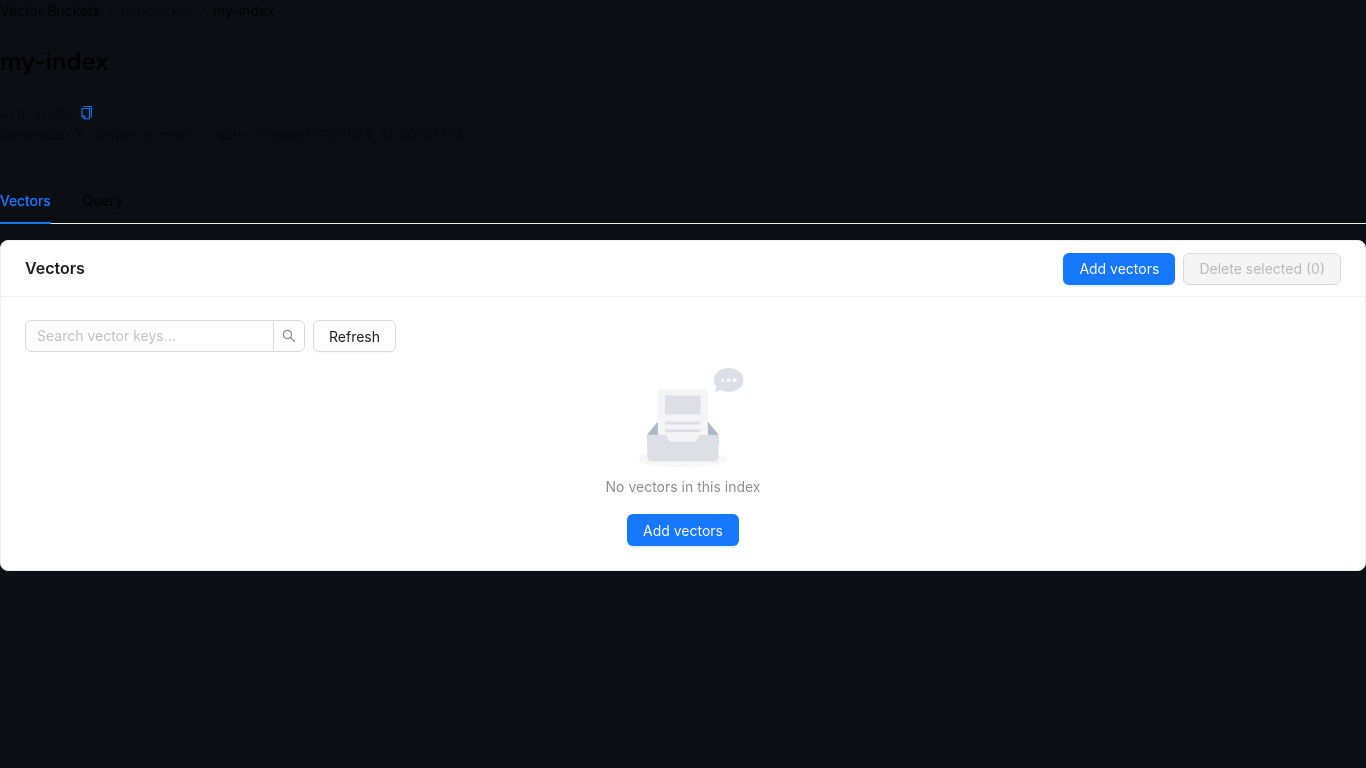
it: IndexDetail page › rejects invalid JSON in the Add vectors modal
Expected: the text "No vectors in this index" is shown, 606,478 -> 760,495
Step 1. Click the 1st button "Add vectors" → (1119, 268), box 1063,252 -> 1175,284
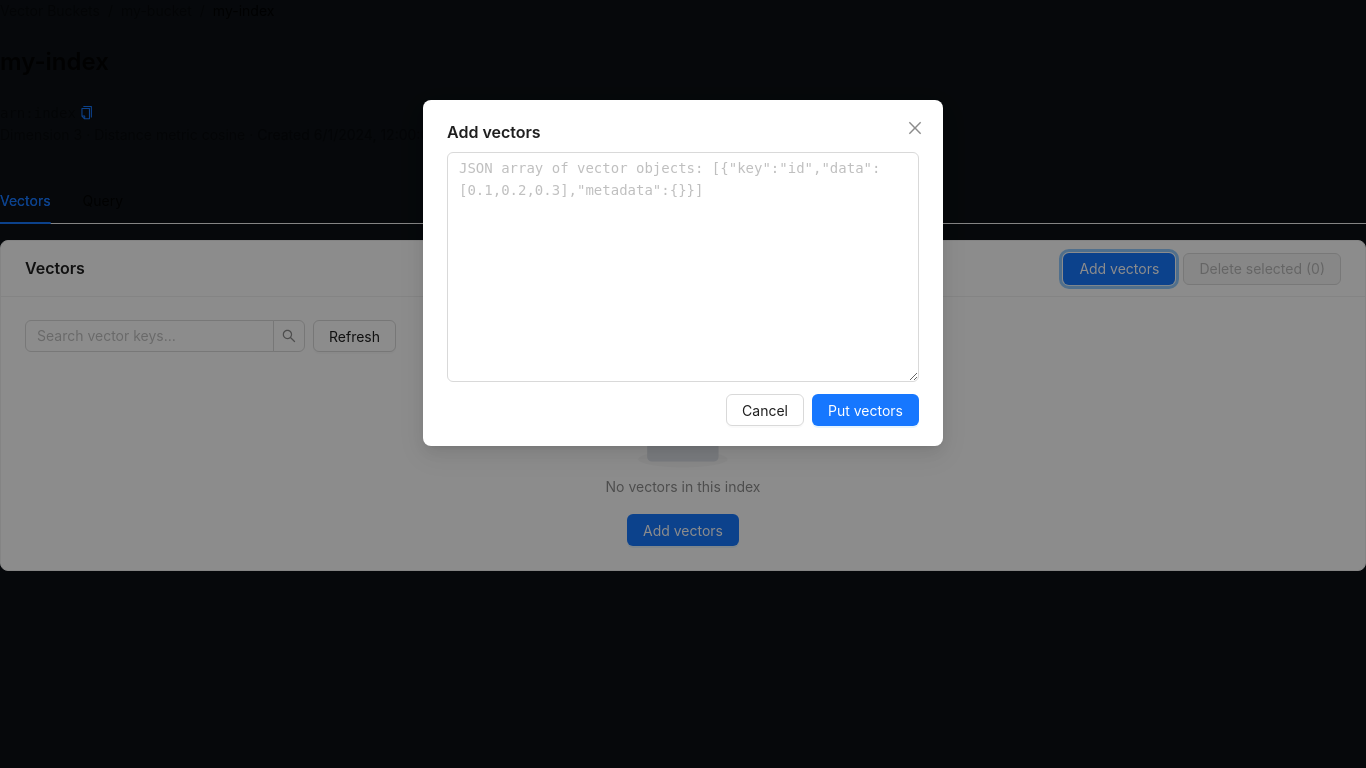
Step 2. Replace the text in the text box with placeholder "JSON array of vector objects" with "not-json" → (683, 267), box 447,152 -> 919,382
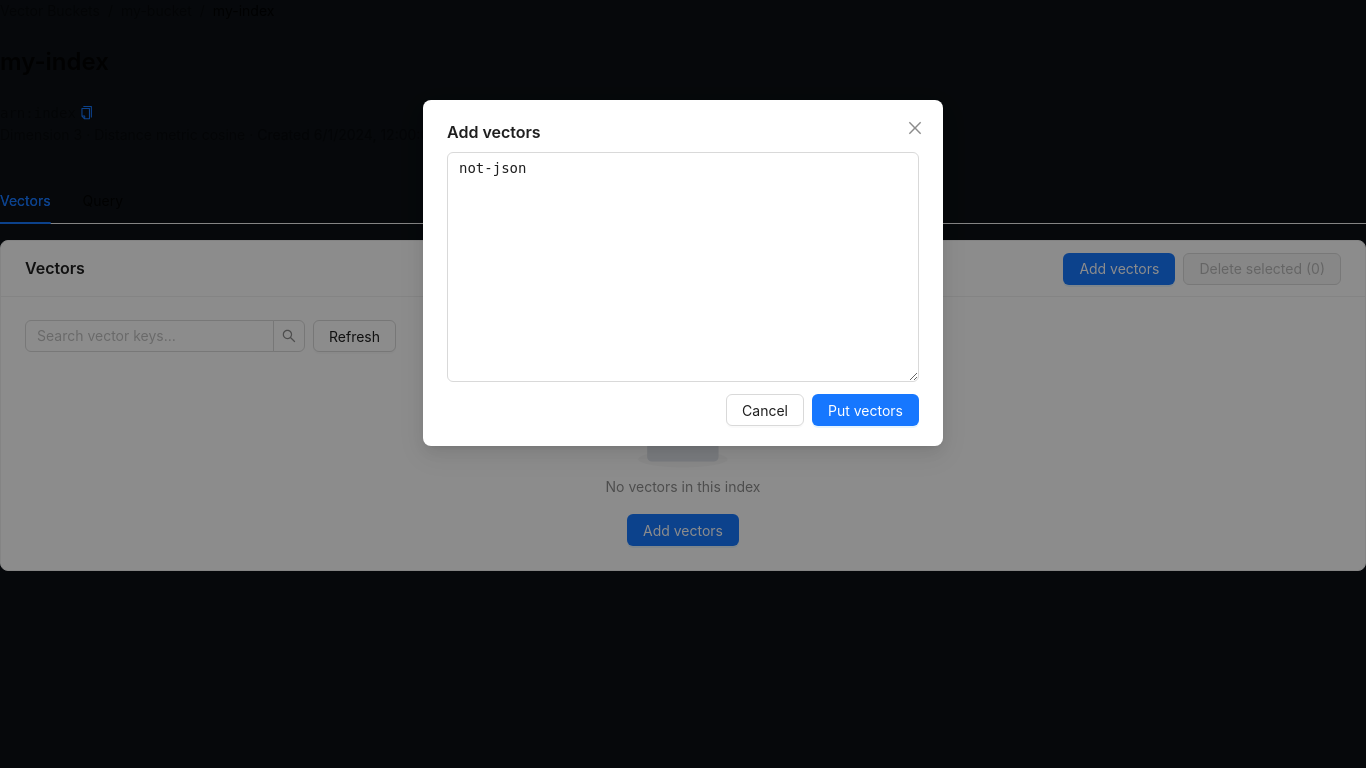
Step 3. Click the button "Put vectors" → (866, 410), box 812,394 -> 919,426
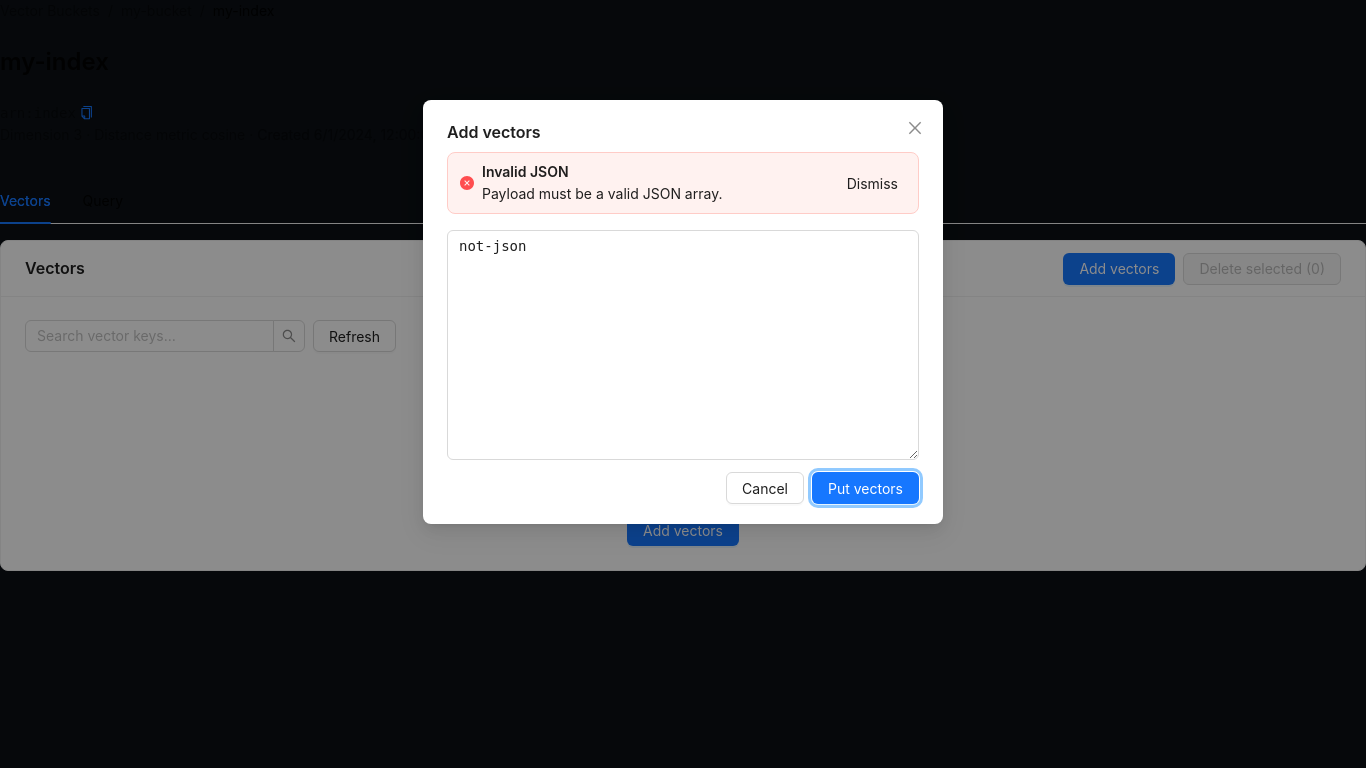
Now the text "Invalid JSON" is shown, box 482,163 -> 569,180
